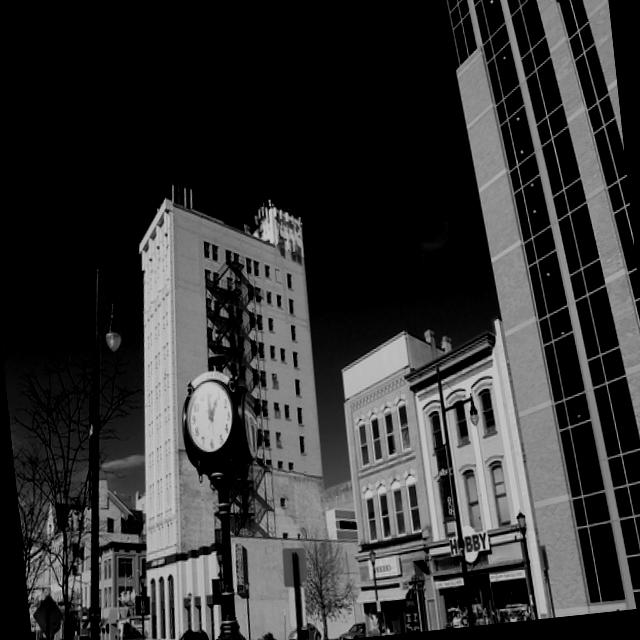Vehicle: (95, 633, 188, 640), (287, 621, 321, 640), (336, 620, 367, 640), (172, 626, 210, 640), (69, 632, 91, 640)
